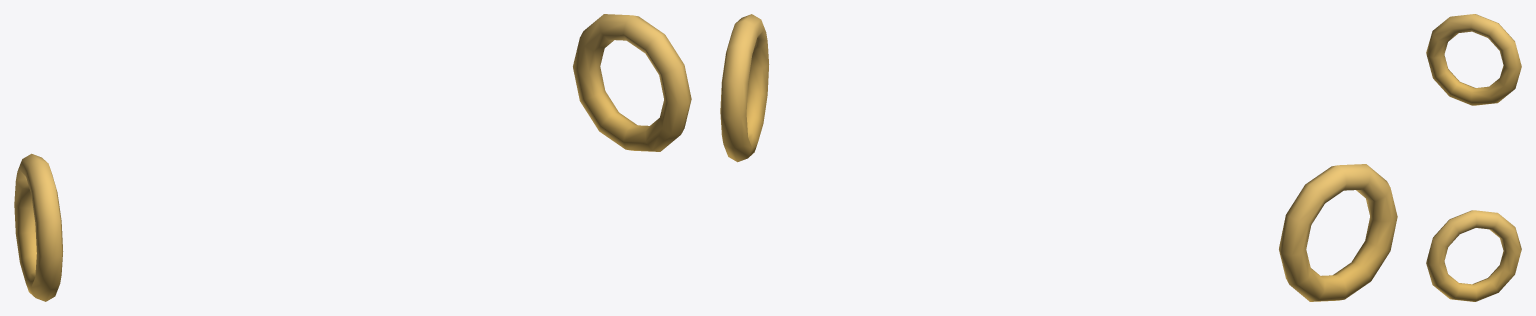
The model's file is Earring_8.fbx.
3 views of the same model, side by side, from view 1: azimuth 30°, elevation 25°; view 2: azimuth 150°, elevation 25°; view 3: azimuth 270°, elevation 25° (orthographic). The views are drawn at different scales.
Visible parts, largest first — view 1: Earring_8; view 2: Earring_8; view 3: Earring_8.
Boxes of the visible parts, bbox=[...] form: Earring_8: bbox=[14, 14, 691, 301]; Earring_8: bbox=[720, 14, 1397, 301]; Earring_8: bbox=[1426, 14, 1521, 301].
Bounding box in the file's own units: 53.26 × 10.62 × 10.04.
